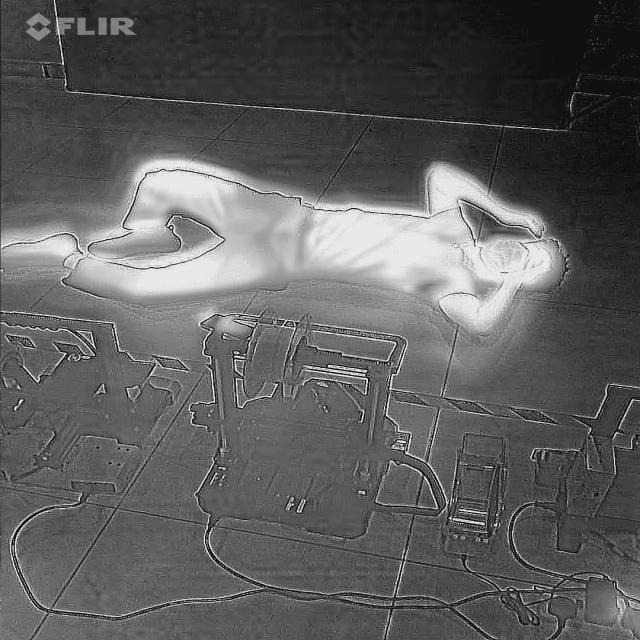Victim: (0, 157, 578, 347)
